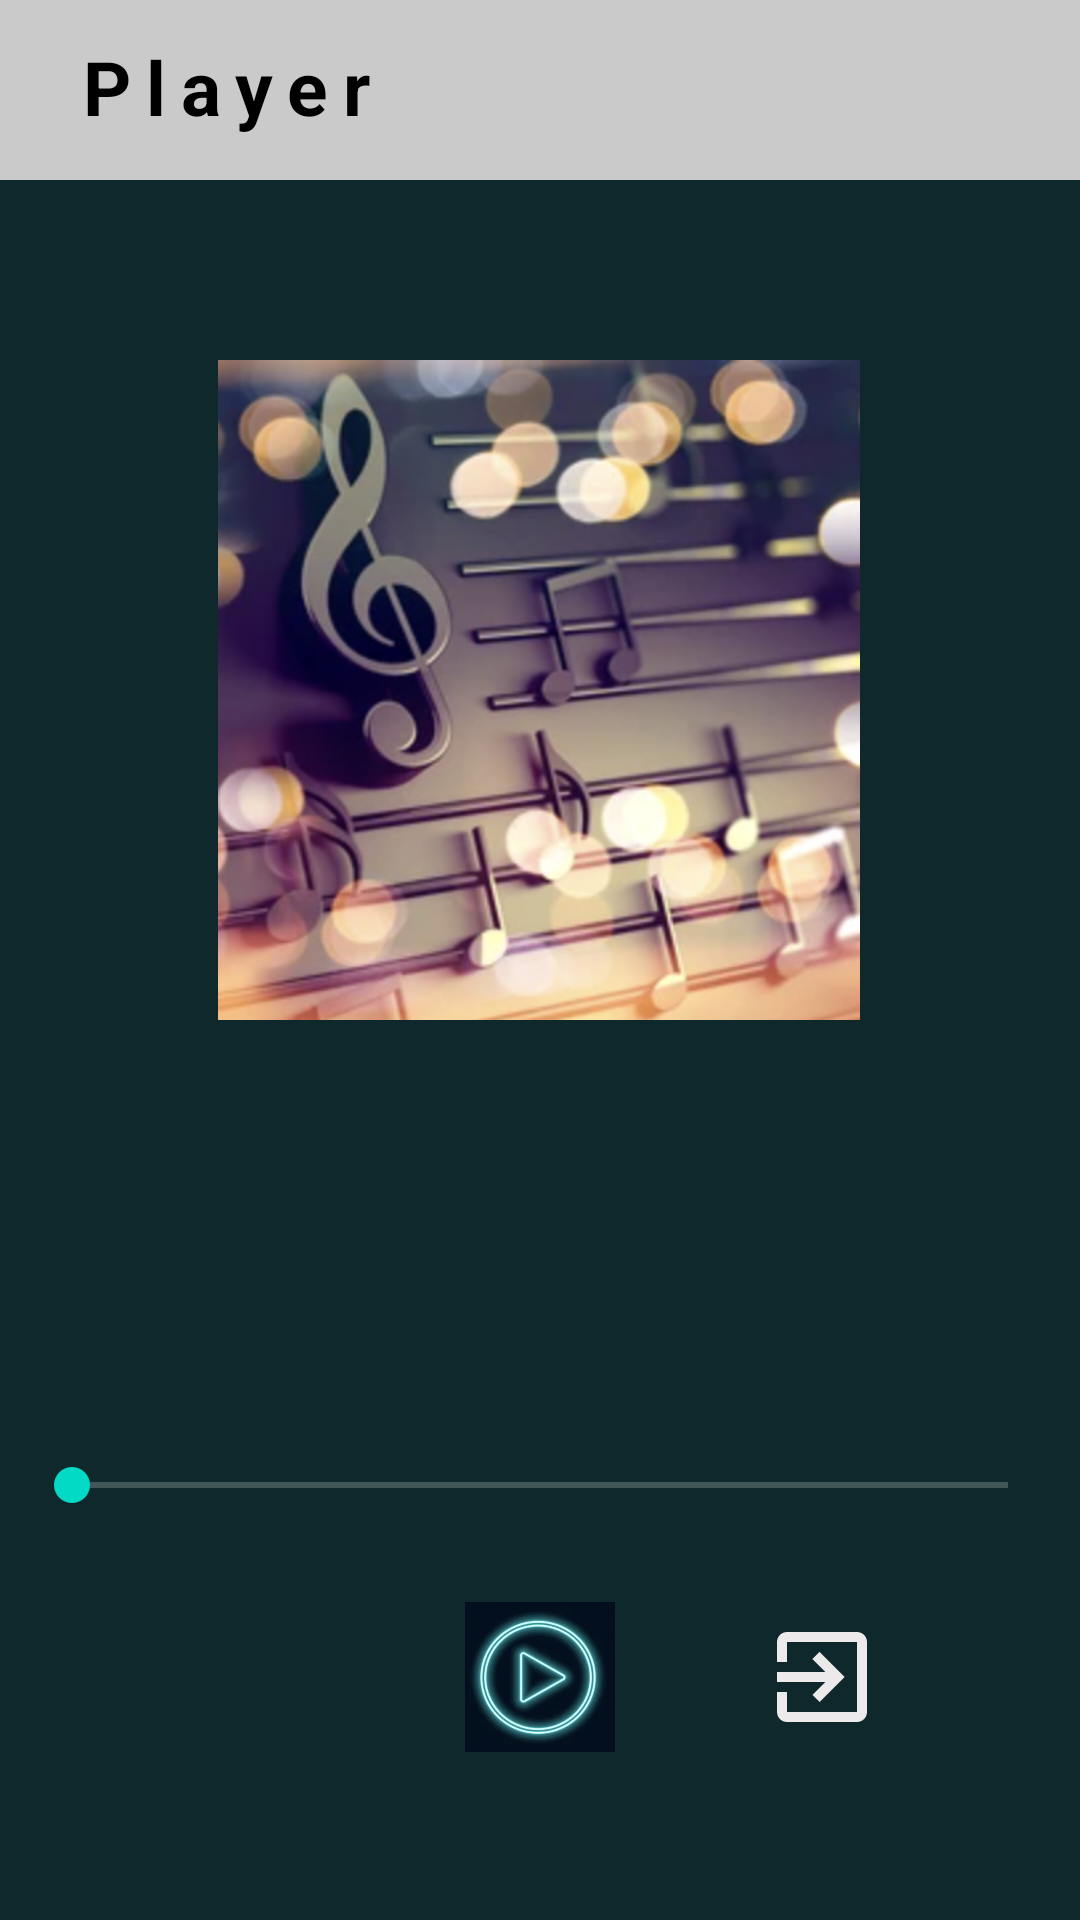

Where to tap for icons on this 1080px×1920px app screen, as (x=x, y=y):
exit: (x=822, y=1677)
play: (x=540, y=1677)
